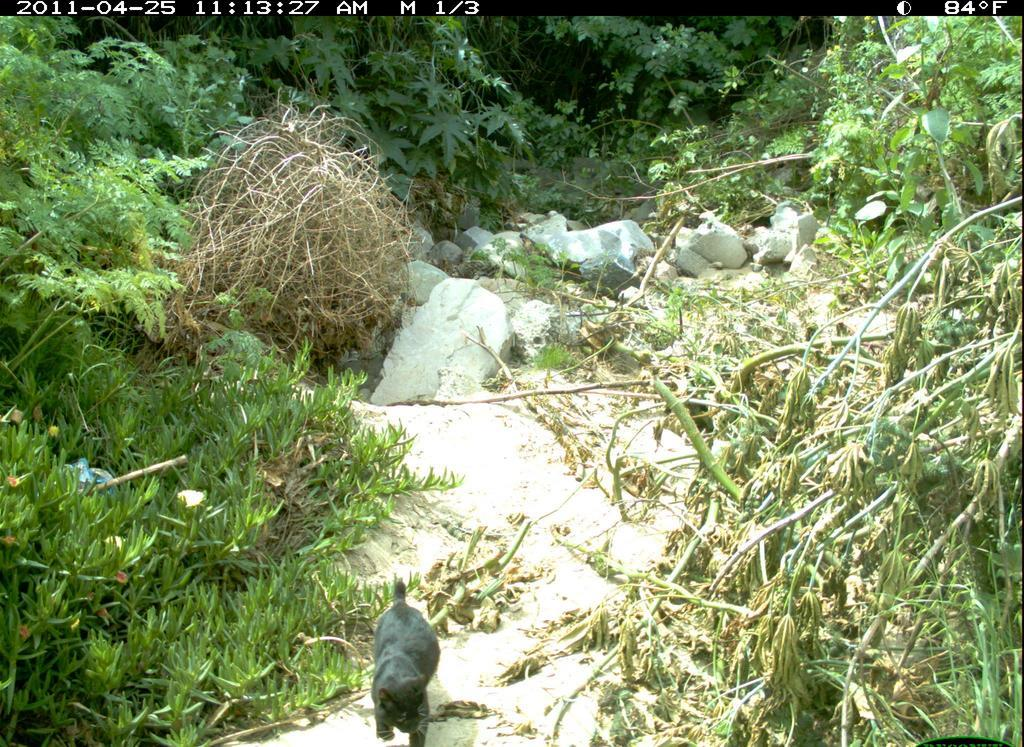cat: (368, 575, 437, 747)
